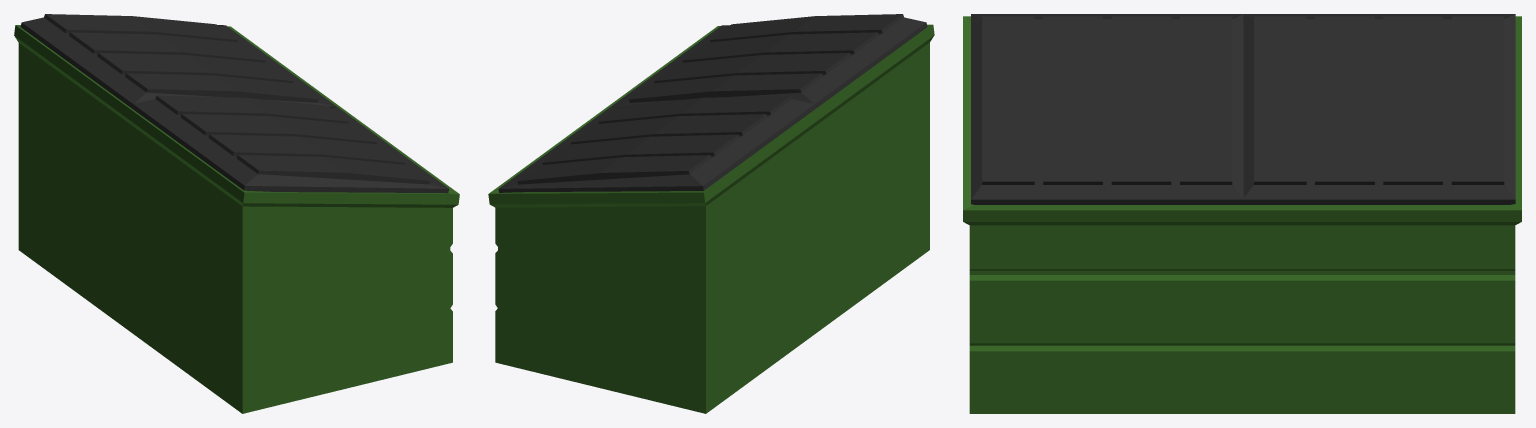
Rendered from DumpsterClosed.fbx.
3 renders of one model, left to right at view 1: azimuth 30°, elevation 25°; view 2: azimuth 150°, elevation 25°; view 3: azimuth 270°, elevation 25°, orthographic. The views are drawn at different scales.
Parts seen in each view (by area): view 1: Cube.038, Cube.029, Cube.001; view 2: Cube.038, Cube.001, Cube.029; view 3: Cube.038, Cube.029, Cube.001.
Boxes of the visible parts, bbox=[...] form: Cube.038: bbox=[14, 25, 459, 413]; Cube.029: bbox=[132, 95, 448, 193]; Cube.001: bbox=[20, 14, 336, 108]; Cube.038: bbox=[488, 24, 934, 413]; Cube.001: bbox=[498, 95, 815, 192]; Cube.029: bbox=[610, 14, 927, 108]; Cube.038: bbox=[963, 16, 1521, 413]; Cube.029: bbox=[971, 14, 1243, 204]; Cube.001: bbox=[1243, 14, 1515, 204].
Bounding box in the file's own units: 403 × 416 × 739.
